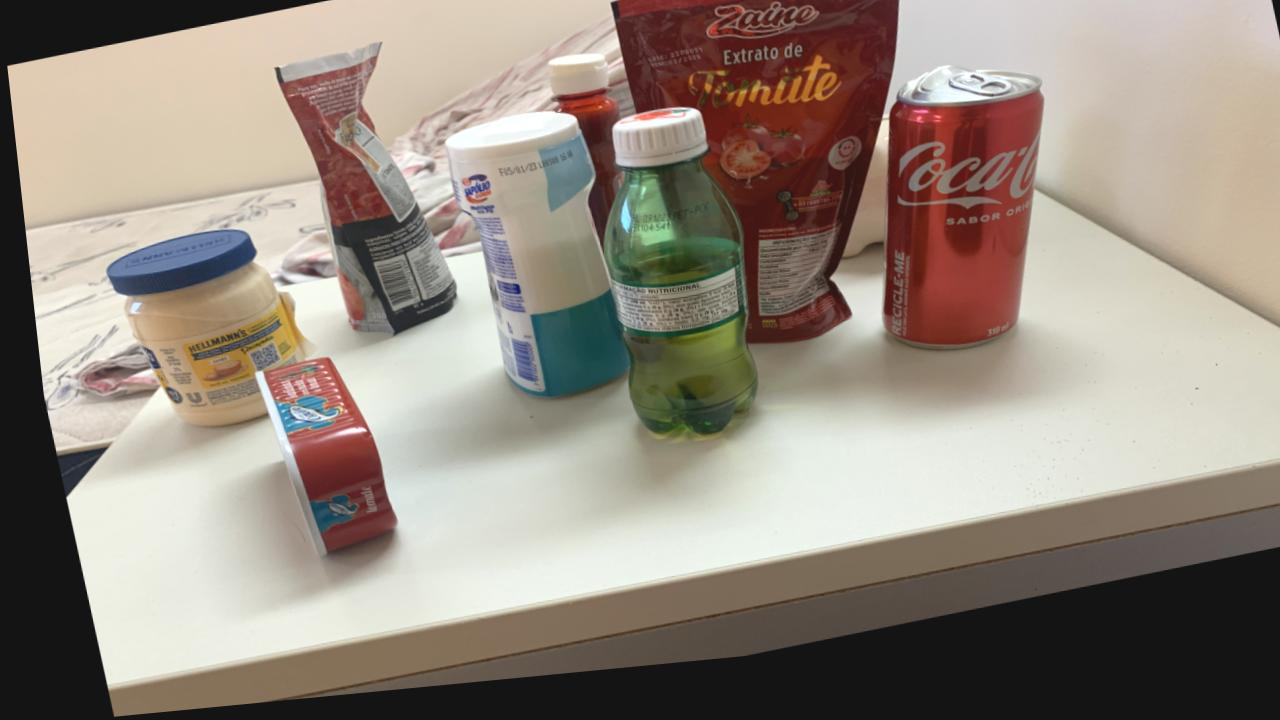Cleaner-Cleanup_Items: (441, 122, 620, 407)
Coke-Drinks: (874, 83, 1040, 367)
Guarana-Drinks: (596, 120, 747, 448)
Ketchup-Pantry_Items: (544, 64, 617, 255)
Mayonnaise-Pantry_Items: (102, 234, 305, 429)
Tomato_Sauce-Pantry_Items: (609, 0, 898, 357), (274, 49, 449, 340)
Tuna_Can-Pantry_Items: (246, 363, 384, 560)
